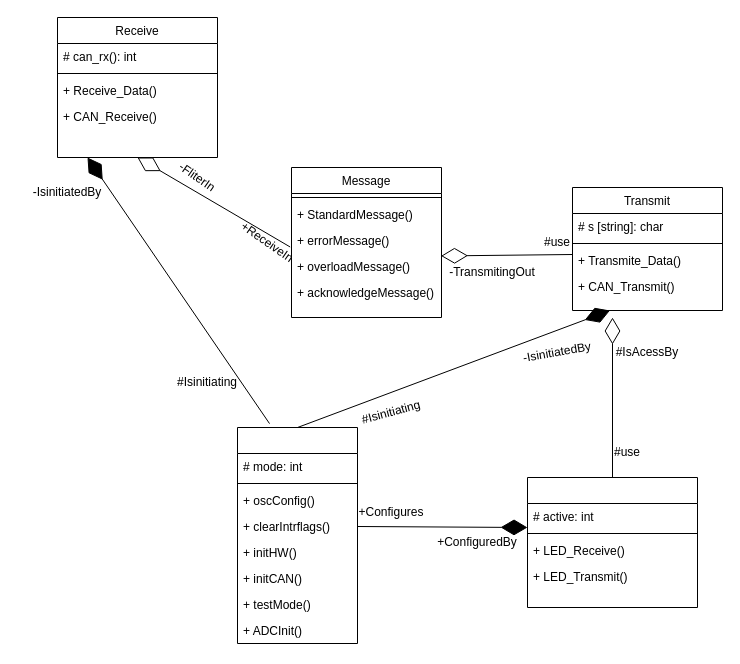
The diagram is 740 pixels wide and 664 high, and some of its shapes have lost their labels. Each missing label, with the box of its shape:
initiate: (236, 426, 358, 644)
Peripherals: (526, 476, 698, 608)
